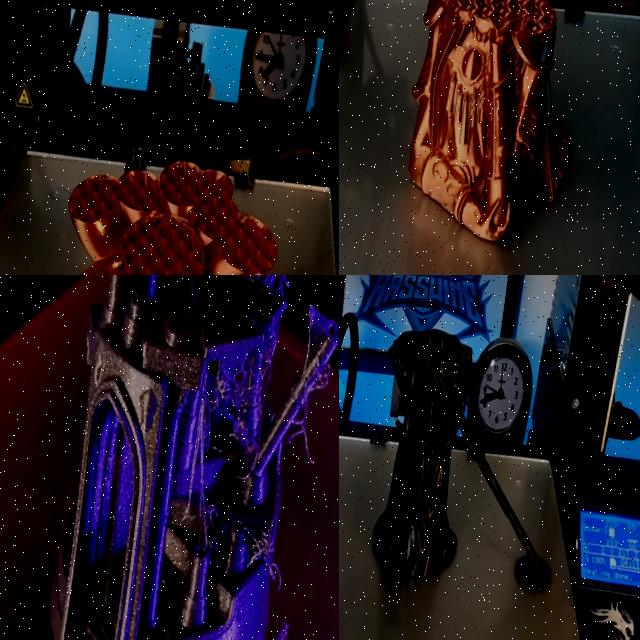spaghetti: (167, 338, 287, 578), (282, 361, 339, 476), (271, 614, 293, 640)
